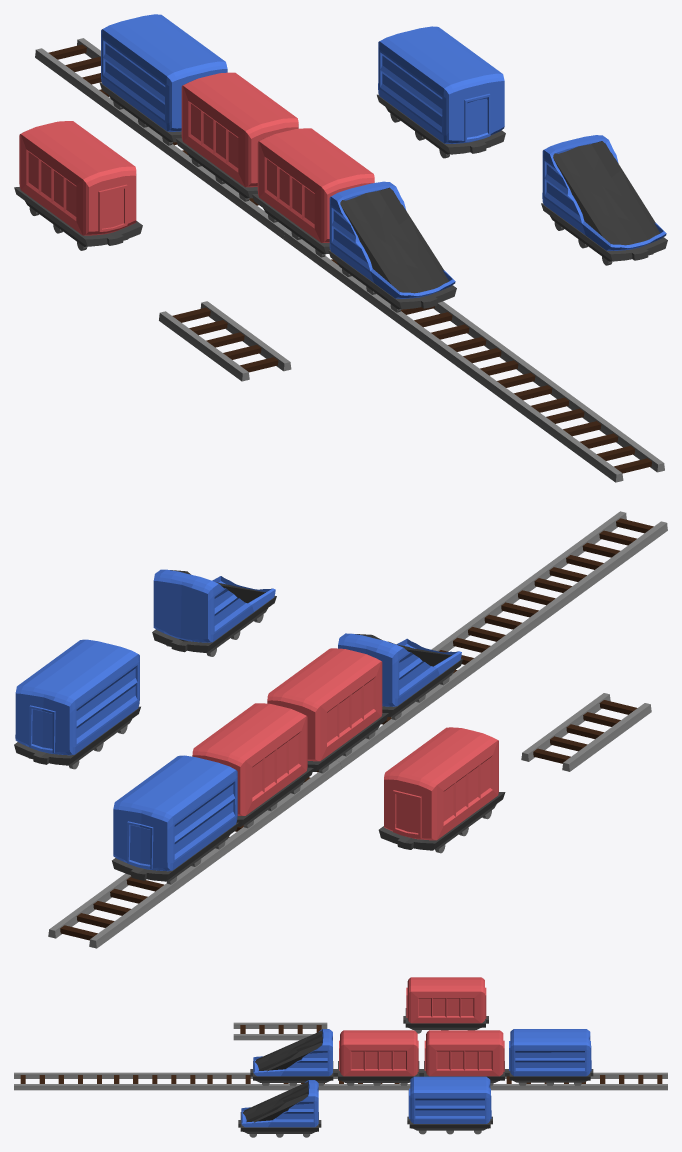
Rendered from trains_like_in_subway_surfers.glb.
3 views of the same model, one above another, from view 1: azimuth 30°, elevation 25°; view 2: azimuth 150°, elevation 25°; view 3: azimuth 270°, elevation 25° (orthographic). The views are drawn at different scales.
Parts seen in each view (by area): view 1: Cube.005, Cube.023, Cube.003, Cube.008, Cube.022, Cube.011, Cylinder, Cube.021, Cube.019, Cube, Cube.017, Cube.006 (+7 smaller); view 2: Cube.008, Cube.005, Cube.003, Cube.011, Cube.022, Cube, Cube.023, Cube.020, Cube.021, Cube.019, Cube.006, Cube.017 (+6 smaller); view 3: Cube.008, Cube.011, Cube.005, Cube.022, Cube.003, Cube.023, Cube, Cube.019, Cube.021, Cube.020, Cylinder, Cube.006 (+6 smaller).
Boxes of the visible parts, <box> form: Cube.005: <box>378,26,504,143</box>; Cube.023: <box>328,181,456,312</box>; Cube.003: <box>19,121,136,235</box>; Cube.008: <box>99,14,227,145</box>; Cube.022: <box>175,72,298,201</box>; Cube.011: <box>252,128,374,257</box>; Cylinder: <box>553,141,659,245</box>; Cube.021: <box>532,402,664,482</box>; Cube.019: <box>450,341,580,421</box>; Cube: <box>542,135,666,250</box>; Cube.017: <box>367,292,497,360</box>; Cube.006: <box>159,301,291,381</box>; Cube.008: <box>112,755,238,884</box>; Cube.005: <box>15,639,139,755</box>; Cube.003: <box>384,727,498,840</box>; Cube.011: <box>267,648,388,773</box>; Cube.022: <box>192,703,313,828</box>; Cube: <box>153,569,275,642</box>; Cube.023: <box>338,633,462,720</box>; Cube.020: <box>48,873,178,948</box>; Cube.021: <box>539,511,667,590</box>; Cube.019: <box>457,571,586,649</box>; Cube.006: <box>521,693,651,771</box>; Cube.017: <box>422,630,504,709</box>; Cube.008: <box>507,1029,593,1085</box>; Cube.011: <box>335,1030,421,1085</box>; Cube.005: <box>408,1076,491,1123</box>; Cube.022: <box>421,1030,507,1085</box>; Cube.003: <box>406,977,486,1023</box>; Cube.023: <box>250,1029,335,1085</box>; Cube: <box>241,1080,318,1127</box>; Cube.019: <box>107,1072,200,1090</box>; Cube.021: <box>14,1072,107,1090</box>; Cube.020: <box>574,1072,667,1090</box>; Cylinder: <box>243,1082,308,1122</box>; Cube.006: <box>233,1022,327,1040</box>.
Bounding box in the file's own units: 74.62 × 15.11 × 172.
